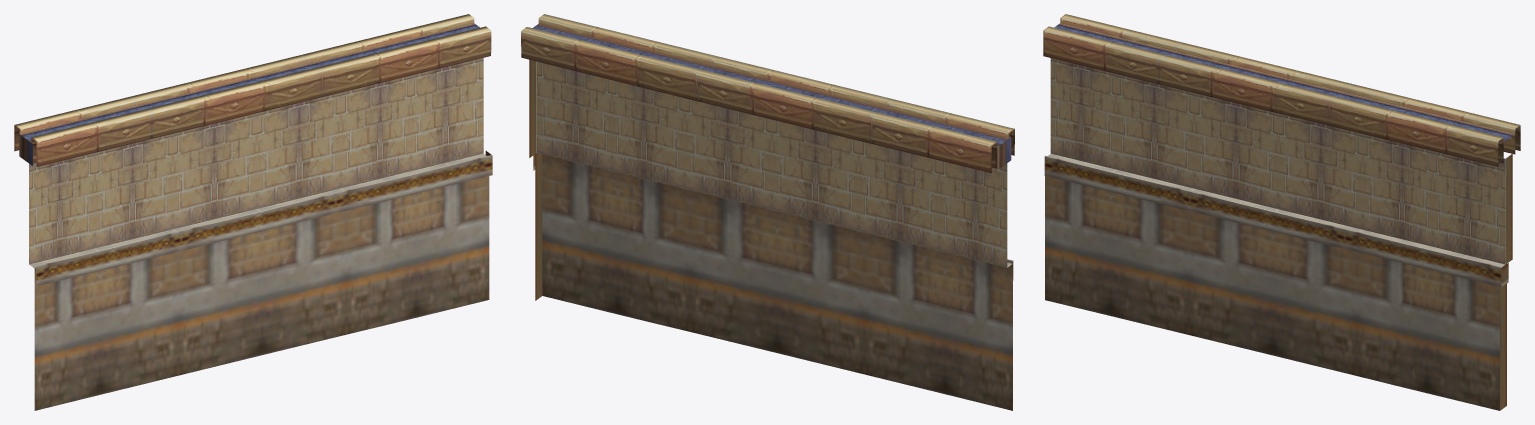
The model's file is S_Build_City094.FBX.
3 renders of one model, left to right at view 1: azimuth 30°, elevation 25°; view 2: azimuth 150°, elevation 25°; view 3: azimuth 330°, elevation 25°, orthographic. The views are drawn at different scales.
Visible parts, largest first — view 1: S_Build_City094; view 2: S_Build_City094; view 3: S_Build_City094.
Part boxes in pixels (x1,y1,x2,y2): S_Build_City094: [14, 14, 492, 410]; S_Build_City094: [521, 14, 1014, 410]; S_Build_City094: [1043, 14, 1520, 410].
Size of the model in its own units: 2539 by 1439 by 216.
